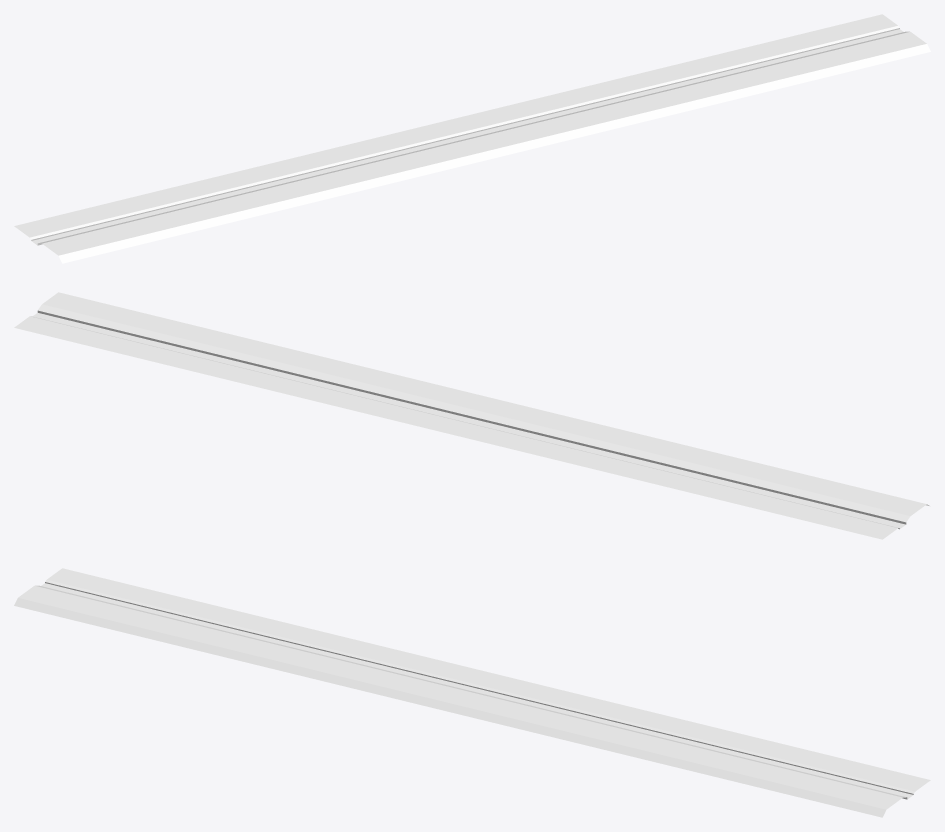
File: curbs_straight.fbx
3 views of the same model, one above another, from view 1: azimuth 30°, elevation 25°; view 2: azimuth 150°, elevation 25°; view 3: azimuth 330°, elevation 25° (orthographic).
Parts seen in each view (by area): view 1: curbs_straight; view 2: curbs_straight; view 3: curbs_straight.
Boxes of the visible parts, x1,y1,x2,y2 form: curbs_straight: [14, 14, 930, 263]; curbs_straight: [14, 292, 929, 539]; curbs_straight: [14, 568, 930, 817].
Bounding box in the file's own units: 5.98 × 0.0341 × 0.5765.
